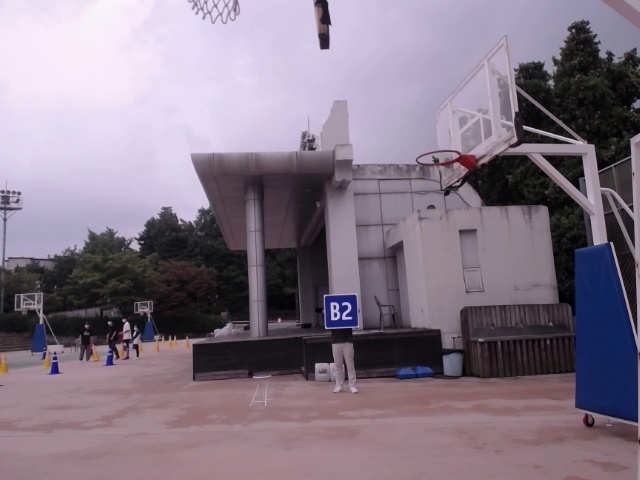delivery_b2: (324, 294, 359, 330)
